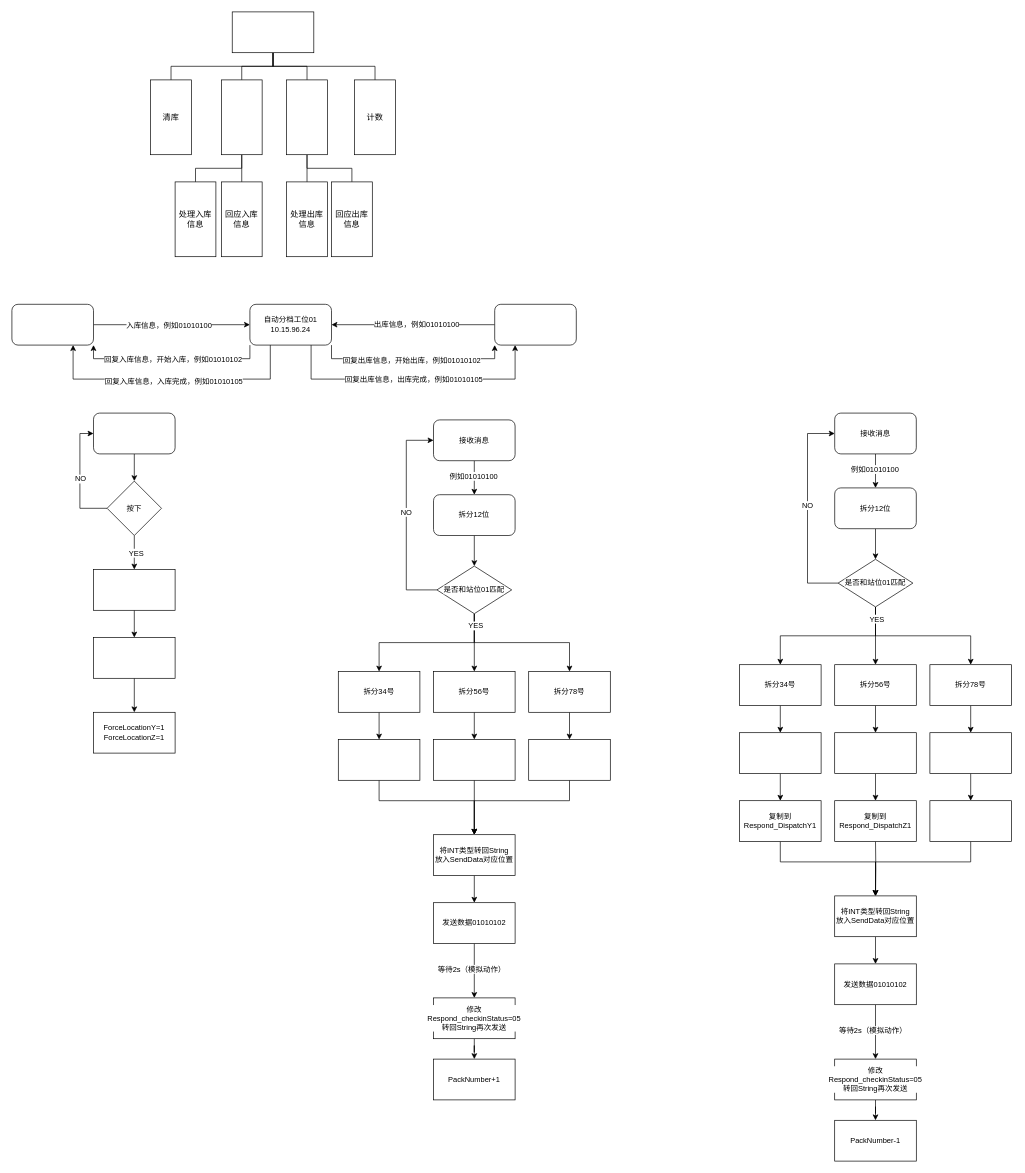
Some shapes in this 1025 by 1173 pixel diagram are drawn without their labels. Each missing label, with the box of its shape:
ForceLocationY=2 ForceLocationZ=2: (93, 569, 175, 610)
TW系统 10.15.96.x: (494, 304, 576, 345)
入库: (221, 79, 262, 155)
出库: (286, 79, 327, 155)
列号01转INT放入Respond_checkinZ1: (433, 739, 515, 780)
列号01转INT放入Send_DispatchZ1: (834, 732, 916, 774)
复制到 Respond_DispatchStatus: (929, 800, 1012, 842)
检测按钮: (93, 412, 175, 454)
状态02转INT放入Respond_checkinStatus: (528, 739, 610, 780)
状态02转INT放入Send_DispatchStatus: (929, 732, 1012, 774)
等待动作结束: (93, 637, 175, 678)
自动分档工位: (232, 11, 314, 53)
自动分档工位入库 10.15.96.24: (11, 304, 94, 345)
行号01转INT放入Respond_checkinY1: (338, 739, 420, 780)
行号01转INT放入Send_DispatchY1: (739, 732, 821, 774)
